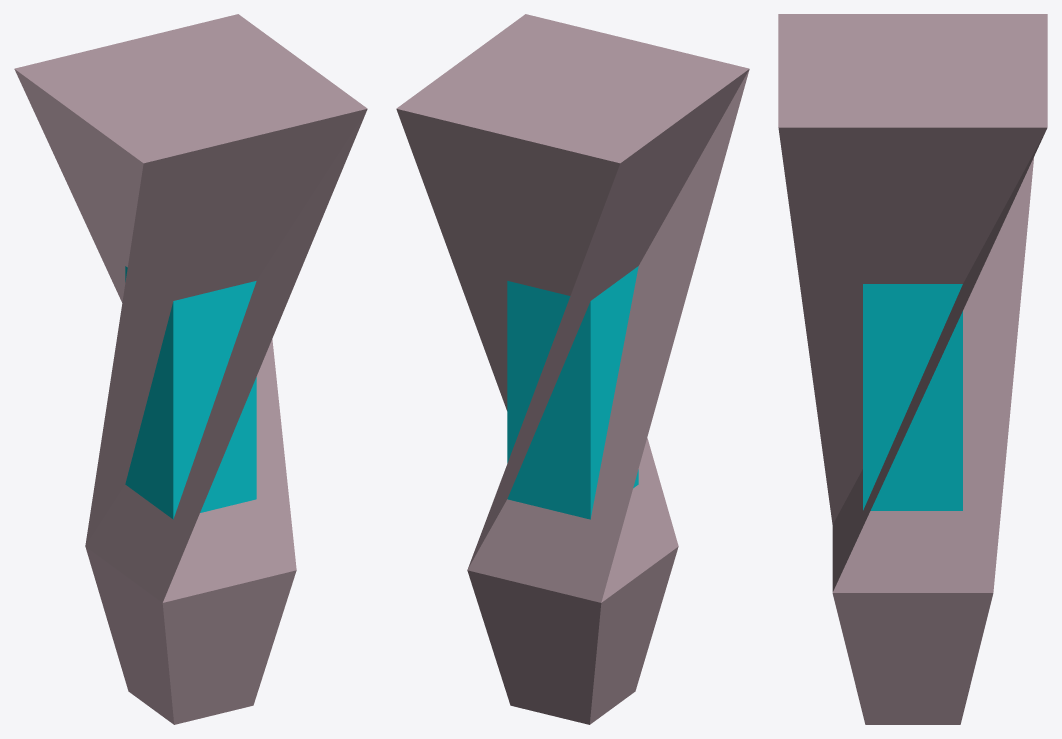
The model's file is Building6.fbx.
3 views of the same model, side by side, from view 1: azimuth 30°, elevation 25°; view 2: azimuth 150°, elevation 25°; view 3: azimuth 270°, elevation 25° (orthographic). The views are drawn at different scales.
Visible parts, largest first — view 1: Cube, Cube.001; view 2: Cube, Cube.001; view 3: Cube, Cube.001.
Part boxes in pixels (x1,y1,x2,y2): Cube: (14, 14, 367, 724); Cube.001: (125, 266, 256, 519); Cube: (396, 14, 749, 724); Cube.001: (507, 266, 638, 519); Cube: (778, 14, 1047, 724); Cube.001: (863, 284, 962, 510).
Bounding box in the file's own units: 678 × 1762 × 678.
